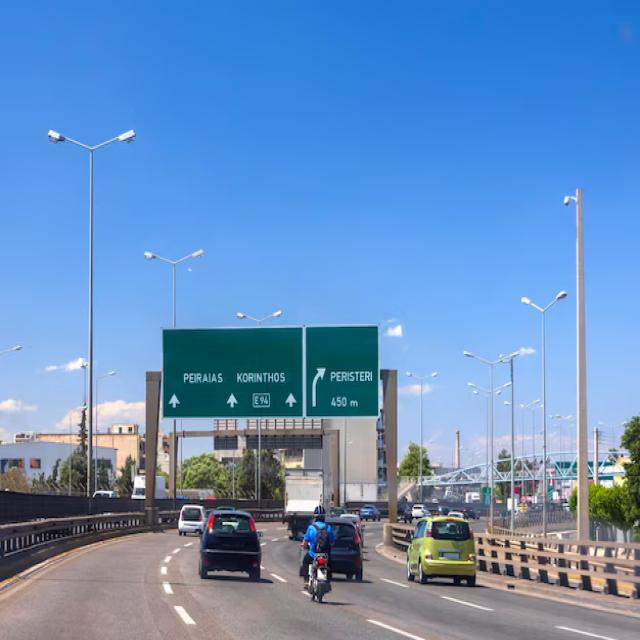Billboard_overhead: (156, 322, 304, 421), (307, 324, 381, 420)
Roadcorner: (1, 505, 169, 619), (477, 577, 639, 621), (367, 534, 406, 568)
Roadlane: (363, 559, 636, 639), (156, 519, 217, 636), (330, 583, 440, 639), (262, 524, 296, 600)
